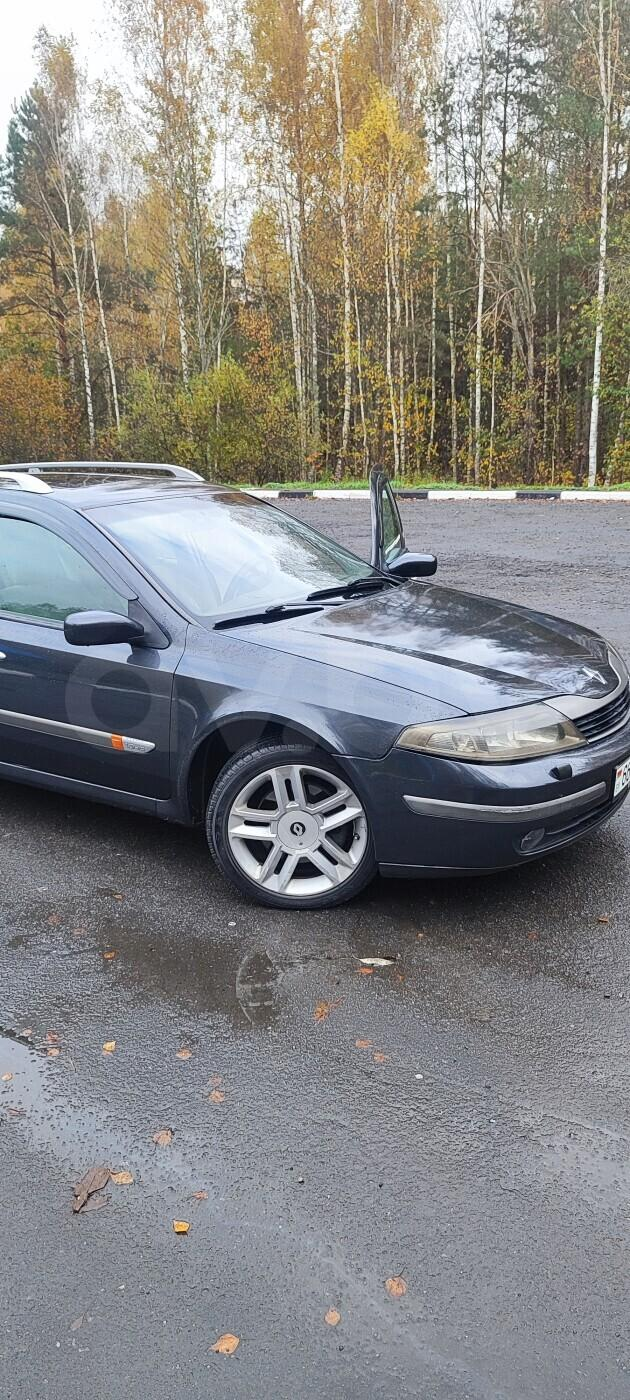Laguna_2001-2005: (0, 462, 629, 910)
